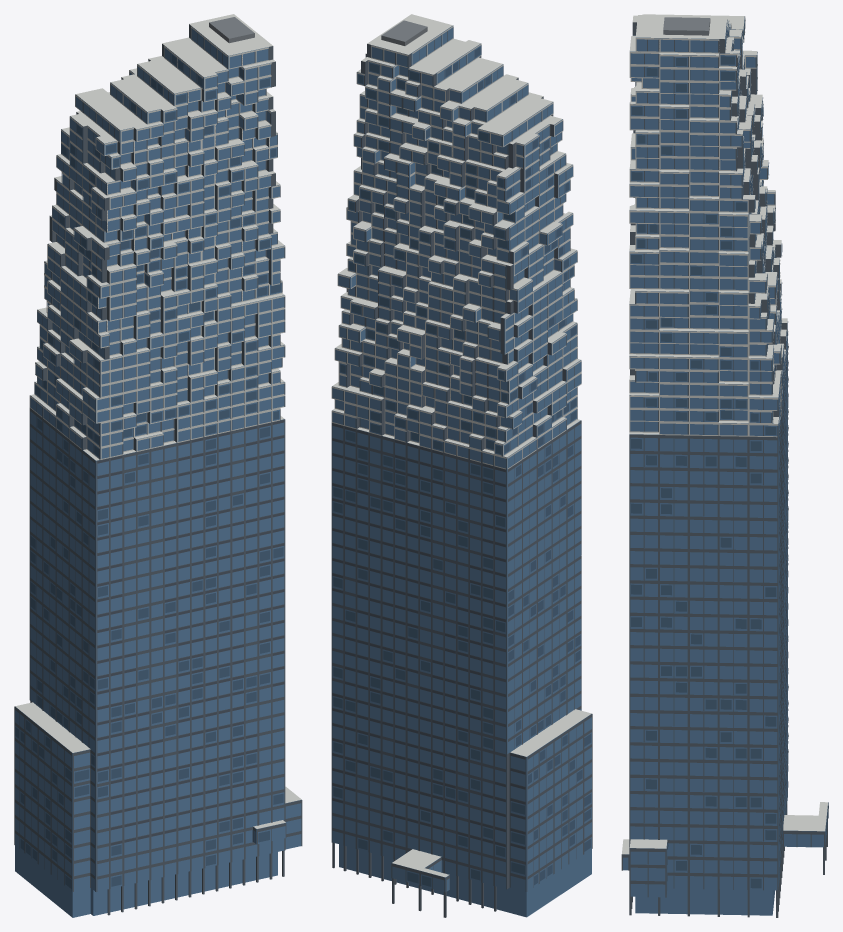
The model's file is telus-sky-near.glb.
3 renders of one model, left to right at view 1: azimuth 30°, elevation 25°; view 2: azimuth 150°, elevation 25°; view 3: azimuth 270°, elevation 25°, orthographic. The views are drawn at different scales.
Parts seen in each view (by area): view 1: telus-sky-0-glass, telus-sky-0-frame, telus-sky-0-ledge, telus-sky-0-light, telus-sky-0-glow, telus-sky-0-metal; view 2: telus-sky-0-glass, telus-sky-0-frame, telus-sky-0-ledge, telus-sky-0-light, telus-sky-0-glow, telus-sky-0-metal; view 3: telus-sky-0-glass, telus-sky-0-frame, telus-sky-0-ledge, telus-sky-0-light, telus-sky-0-glow, telus-sky-0-metal.
Boxes of the visible parts, left/top/right/bottom form: telus-sky-0-glass: left=15, top=26, right=301, bottom=917; telus-sky-0-frame: left=14, top=24, right=302, bottom=915; telus-sky-0-ledge: left=15, top=14, right=301, bottom=828; telus-sky-0-light: left=15, top=55, right=283, bottom=888; telus-sky-0-glow: left=97, top=420, right=284, bottom=845; telus-sky-0-metal: left=209, top=17, right=254, bottom=43; telus-sky-0-glass: left=332, top=25, right=591, bottom=917; telus-sky-0-frame: left=331, top=27, right=592, bottom=917; telus-sky-0-ledge: left=331, top=14, right=591, bottom=877; telus-sky-0-light: left=333, top=47, right=591, bottom=886; telus-sky-0-glow: left=332, top=423, right=524, bottom=849; telus-sky-0-metal: left=381, top=20, right=427, bottom=45; telus-sky-0-glass: left=623, top=16, right=828, bottom=915; telus-sky-0-frame: left=621, top=18, right=828, bottom=917; telus-sky-0-ledge: left=622, top=14, right=827, bottom=854; telus-sky-0-light: left=631, top=28, right=827, bottom=888; telus-sky-0-glow: left=667, top=346, right=788, bottom=849; telus-sky-0-metal: left=663, top=17, right=710, bottom=35.
Bounding box in the file's own units: 61.65 × 222 × 47.65.
